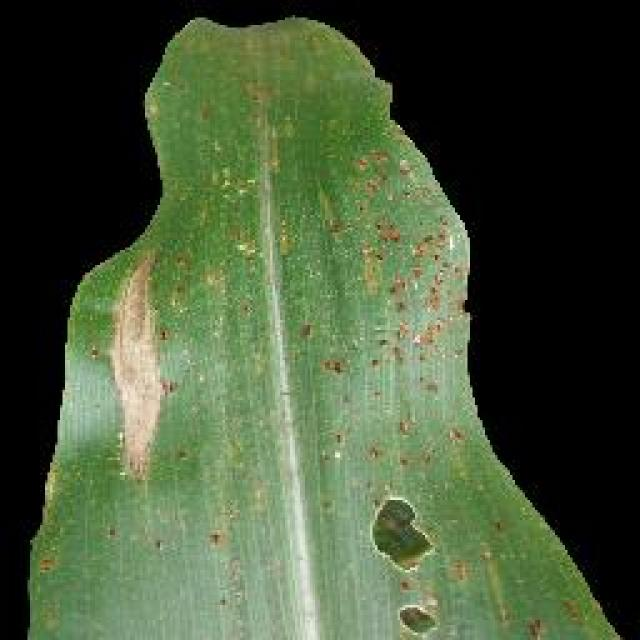Corn Common Rust: (204, 63, 534, 562)
